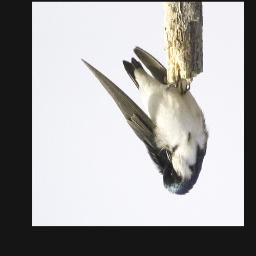Swallow: (81, 45, 210, 197)
